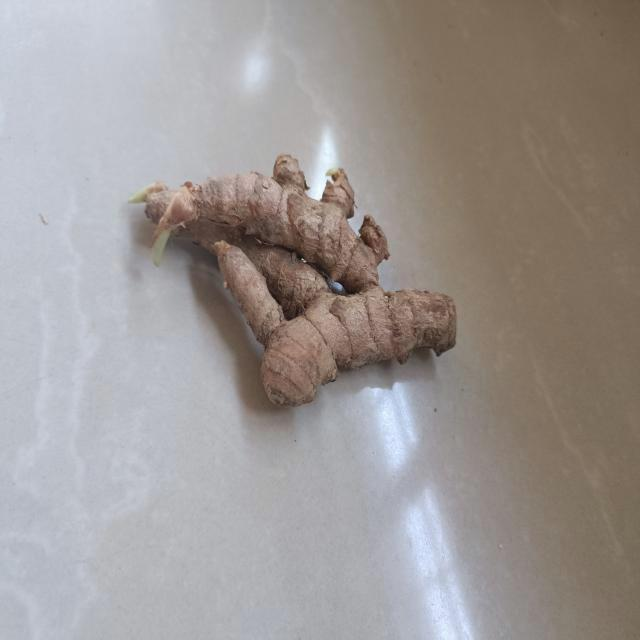ginger: (136, 151, 458, 404)
